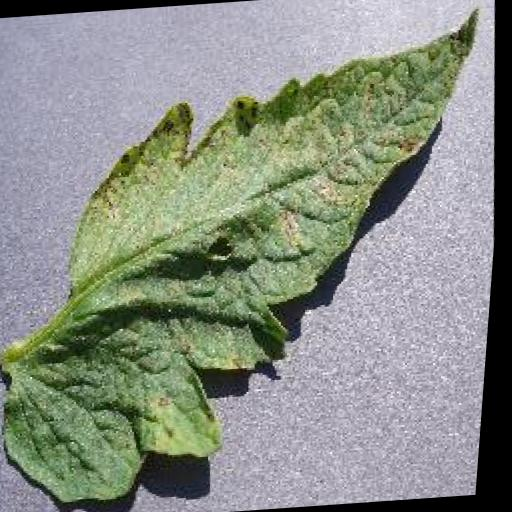Septoria: (0, 3, 512, 511)
